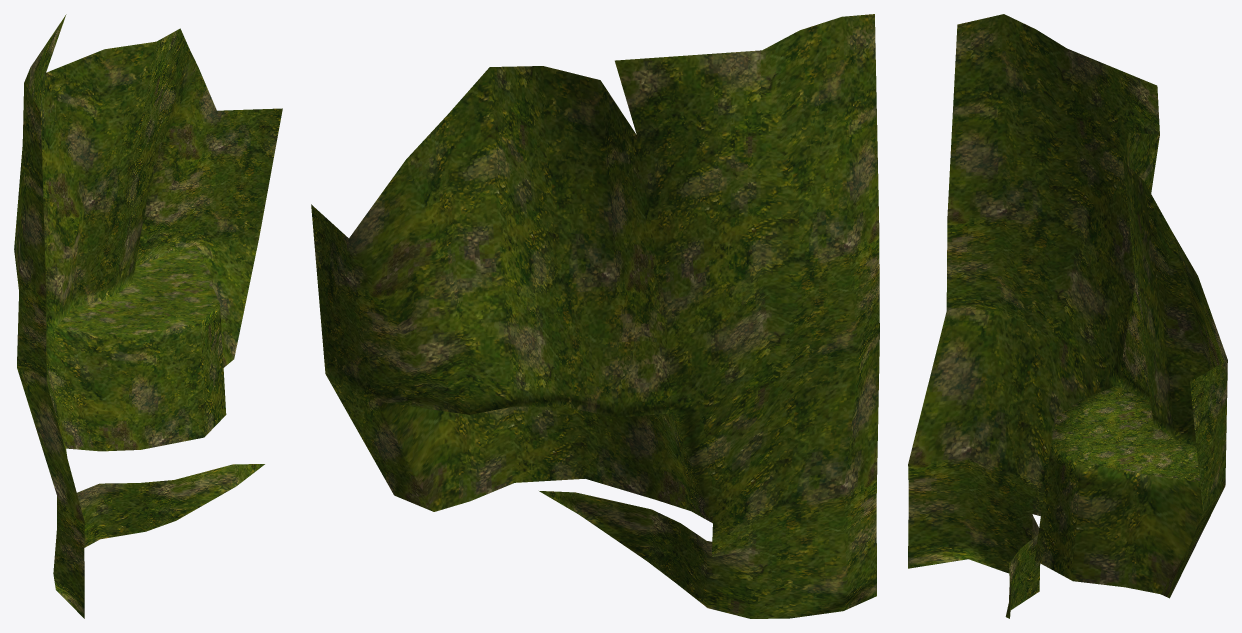
Rendered from OVERHILL_A_01_WALL_200.fbx.
3 views of the same model, side by side, from view 1: azimuth 30°, elevation 25°; view 2: azimuth 150°, elevation 25°; view 3: azimuth 270°, elevation 25° (orthographic). The views are drawn at different scales.
Visible parts, largest first — view 1: OVERHILL_A_01_WALL_200; view 2: OVERHILL_A_01_WALL_200; view 3: OVERHILL_A_01_WALL_200.
Boxes of the visible parts, x1=… form: OVERHILL_A_01_WALL_200: x1=14, y1=14, x2=282, y2=618; OVERHILL_A_01_WALL_200: x1=311, y1=14, x2=879, y2=618; OVERHILL_A_01_WALL_200: x1=908, y1=14, x2=1227, y2=618.
Size of the model in its own units: 84500 by 115279 by 61152.
1 material, 1 textured.
